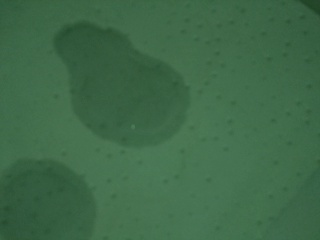Water_detected: (69, 41, 175, 130), (17, 166, 83, 236)
